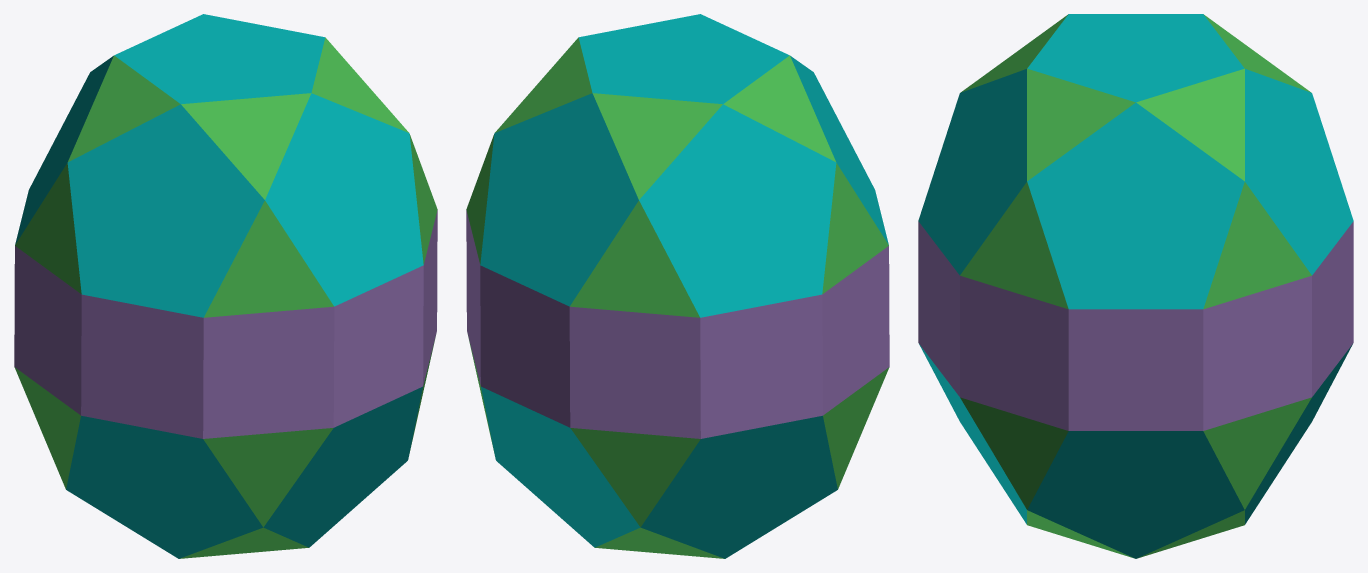
The model's file is J42.OrtobirrotondaPentagonalElongada.gltf.
3 renders of one model, left to right at view 1: azimuth 30°, elevation 25°; view 2: azimuth 150°, elevation 25°; view 3: azimuth 270°, elevation 25°, orthographic.
Parts seen in each view (by area): view 1: J42.OrtobirrotondaPentagonalElongada; view 2: J42.OrtobirrotondaPentagonalElongada; view 3: J42.OrtobirrotondaPentagonalElongada.
Boxes of the visible parts, left/top/right/bottom form: J42.OrtobirrotondaPentagonalElongada: left=14, top=14, right=437, bottom=558; J42.OrtobirrotondaPentagonalElongada: left=466, top=14, right=889, bottom=558; J42.OrtobirrotondaPentagonalElongada: left=918, top=14, right=1353, bottom=558.
Size of the model in its own units: 14.96 by 18.25 by 15.71.
